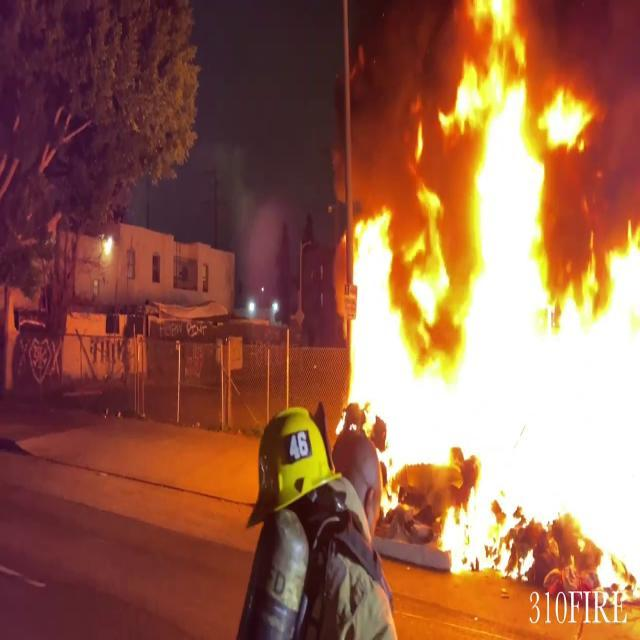Fire: (338, 2, 640, 592)
